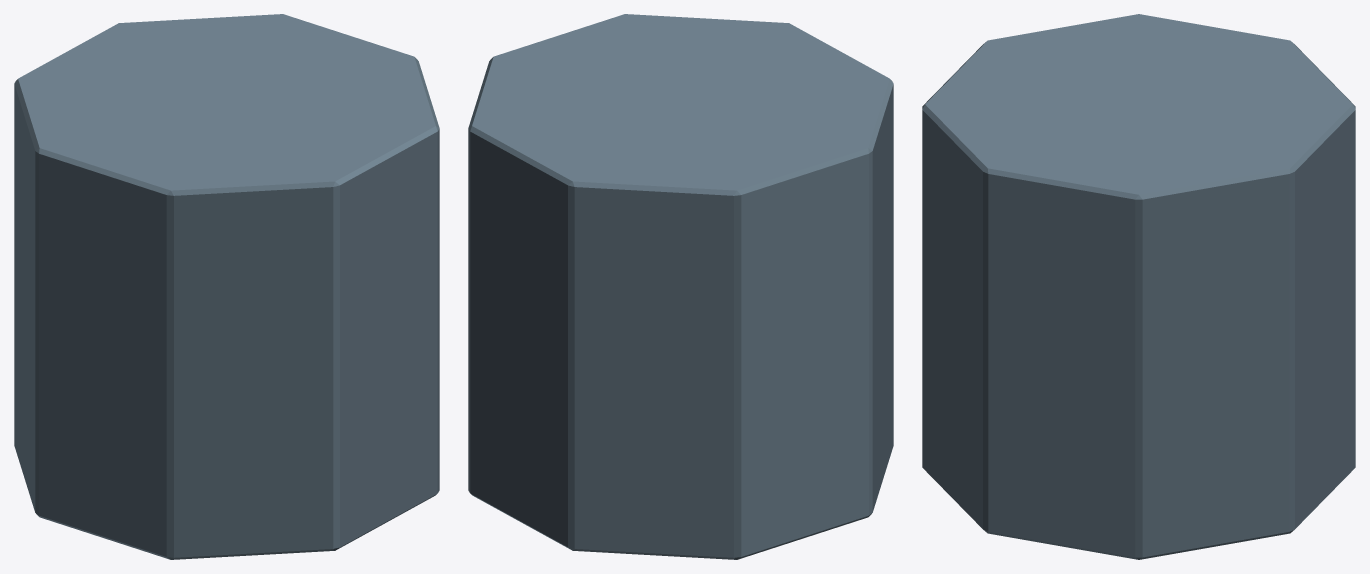
Rendered from P24_OctagonalPrism.fbx.
3 views of the same model, side by side, from view 1: azimuth 30°, elevation 25°; view 2: azimuth 150°, elevation 25°; view 3: azimuth 270°, elevation 25° (orthographic).
Parts seen in each view (by area): view 1: P24_OctagonalPrism; view 2: P24_OctagonalPrism; view 3: P24_OctagonalPrism.
Part boxes in pixels (x1,y1,x2,y2): P24_OctagonalPrism: [14, 14, 439, 559]; P24_OctagonalPrism: [468, 14, 893, 559]; P24_OctagonalPrism: [922, 14, 1355, 559].
Bounding box in the file's own units: 1.29 × 1.2 × 1.29.
1 material, 1 textured.
